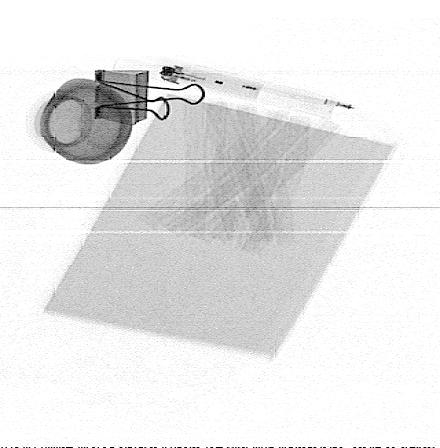Lighter: (152, 62, 265, 99)
